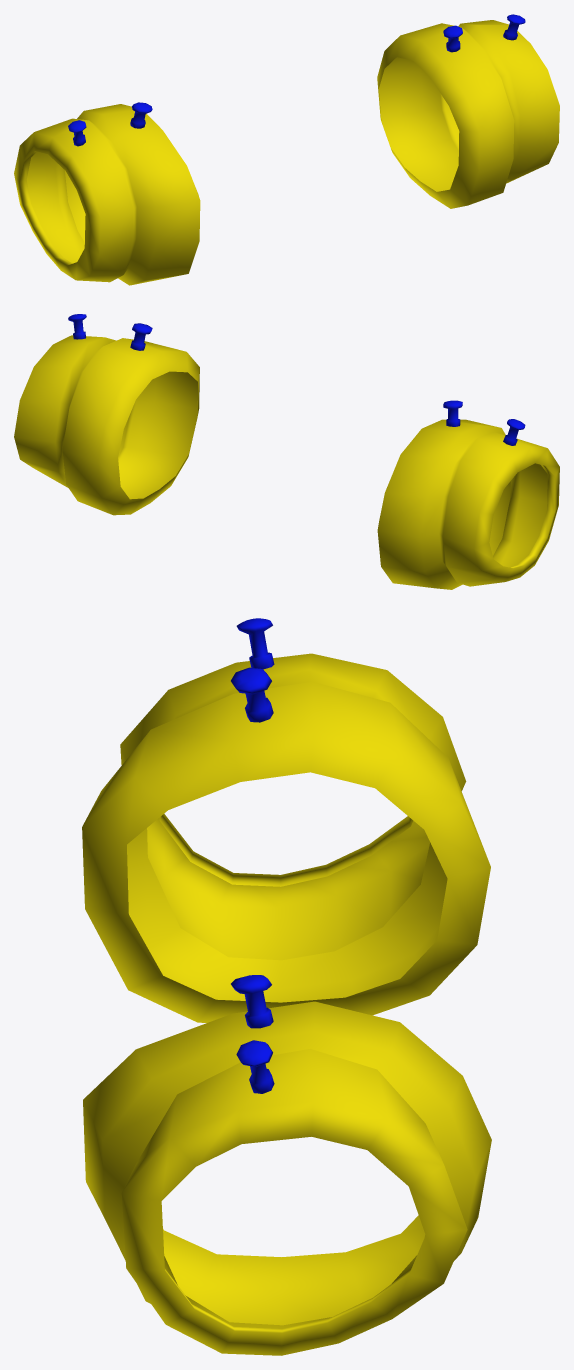
The model's file is CUArmFloatie.fbx.
The picture shows the model from 3 angles, top to bottom: view 1: azimuth 30°, elevation 25°; view 2: azimuth 150°, elevation 25°; view 3: azimuth 270°, elevation 25°; orthographic projection. The views are drawn at different scales.
Parts seen in each view (by area): view 1: LArmFloatie, RArmFloatie, RArmValve, LArmValve; view 2: LArmFloatie, RArmFloatie, LArmValve, RArmValve; view 3: RArmFloatie, LArmFloatie, LArmValve, RArmValve.
Boxes of the visible parts, x1=… form: LArmFloatie: x1=377, y1=20, x2=559, y2=208; RArmFloatie: x1=14, y1=104, x2=200, y2=285; RArmValve: x1=68, y1=102, x2=152, y2=146; LArmValve: x1=443, y1=14, x2=525, y2=52; LArmFloatie: x1=14, y1=335, x2=199, y2=515; RArmFloatie: x1=377, y1=419, x2=559, y2=589; LArmValve: x1=68, y1=314, x2=152, y2=350; RArmValve: x1=443, y1=400, x2=525, y2=445; RArmFloatie: x1=82, y1=653, x2=490, y2=1022; LArmFloatie: x1=83, y1=1001, x2=491, y2=1355; LArmValve: x1=231, y1=975, x2=274, y2=1093; RArmValve: x1=231, y1=618, x2=274, y2=722.
Size of the model in its own units: 254 by 87.58 by 96.06.
